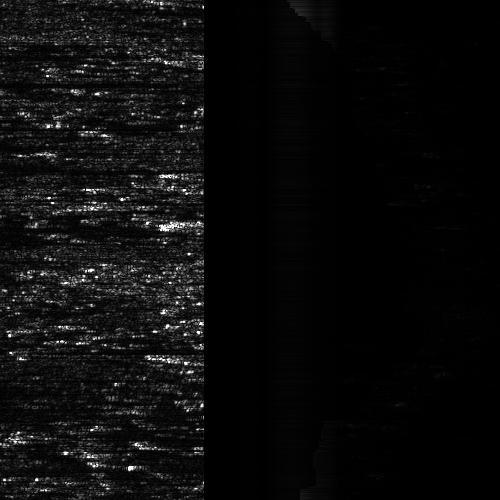object: (18, 150, 71, 155)
shadow: (45, 150, 199, 155), (0, 167, 91, 174)
